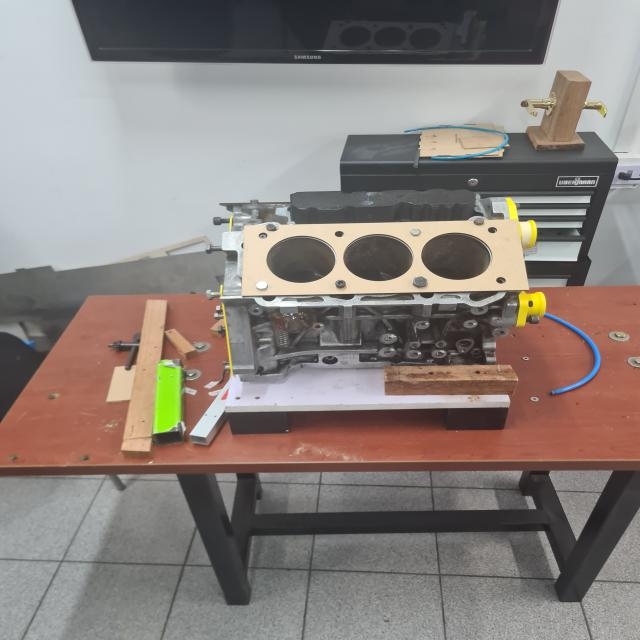vista1: (241, 220, 529, 296)
